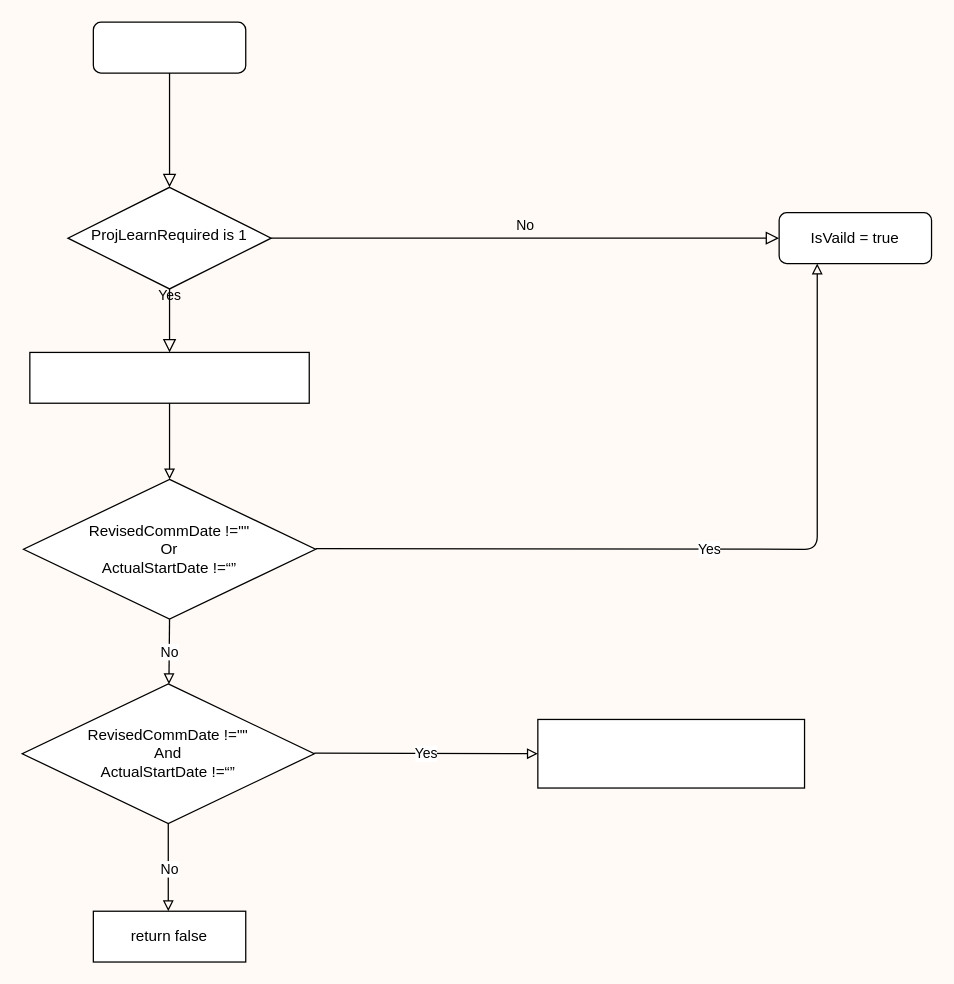
Some shapes in this 954 by 984 pixel diagram are drawn without their labels. Here are the shapes that lost their labels. From the top down, the centre of each, then its label:
At (169,47): "Start".
At (169,377): "dtProjActualStartDate = new Date()".
At (671,753): "dtProjActualStartDate = proj.ActualStartDate".
